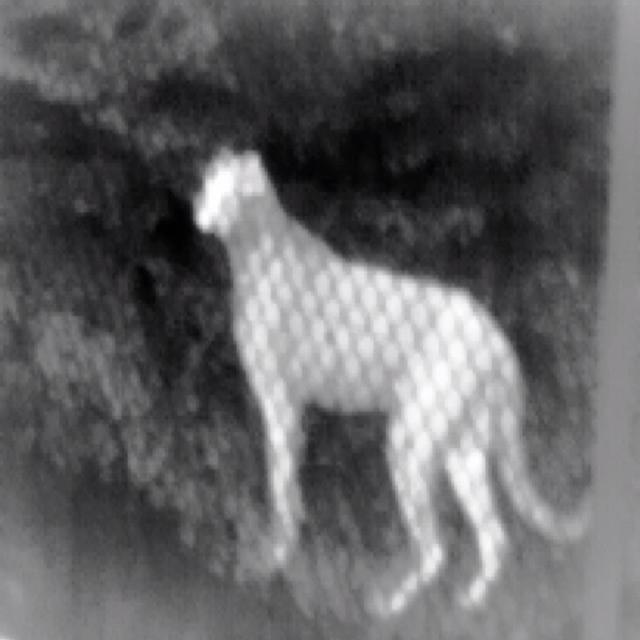cheetah: (196, 147, 589, 610)
